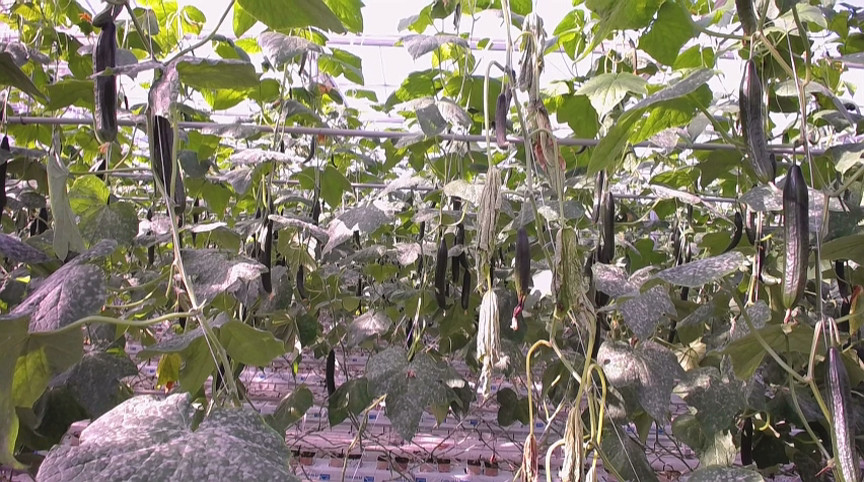cucumber: (824, 347, 862, 482), (737, 59, 773, 184), (781, 164, 810, 311), (153, 116, 187, 213), (91, 22, 118, 144), (511, 232, 531, 299), (432, 239, 450, 311), (493, 92, 513, 152), (261, 221, 273, 296), (324, 349, 335, 397)
